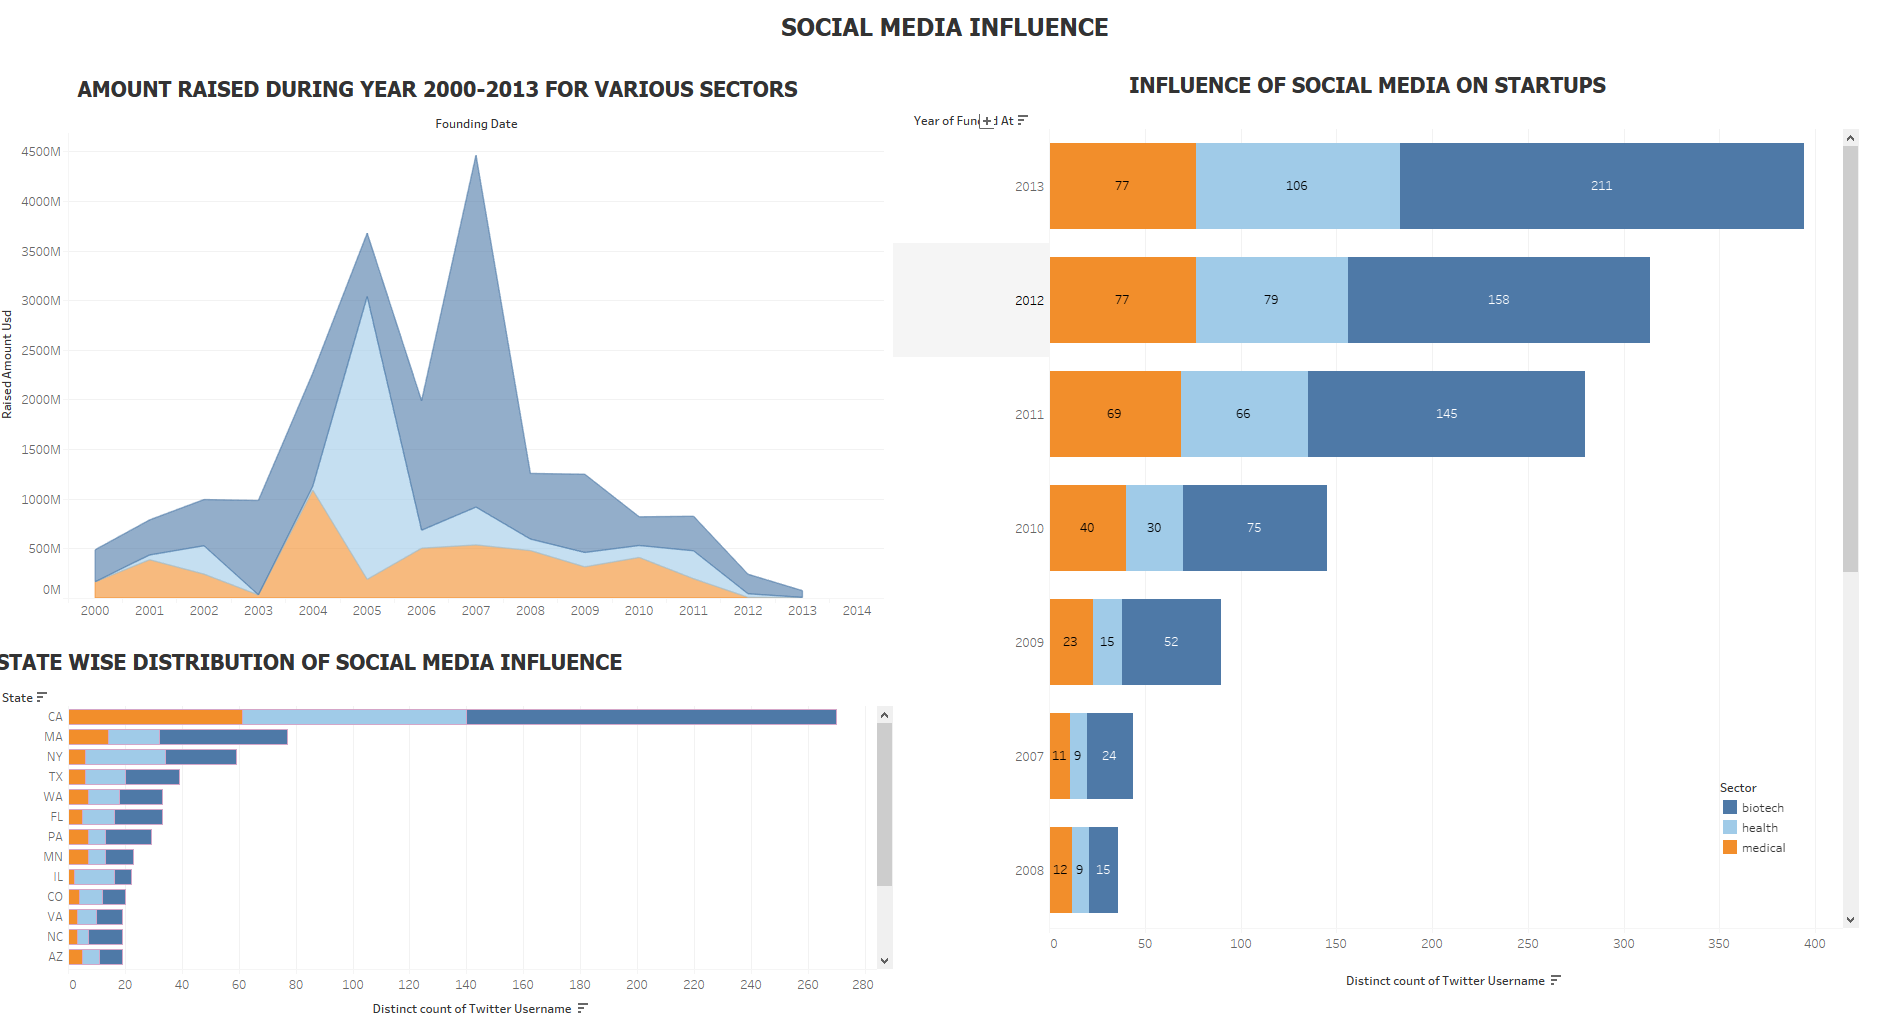

Layout of this report page (visuals, bound fields, positions):
{"tool":"tableau","page":{"name":"Dashboard 4","canvas":[1000,1000],"units":"permille","ordinal":3},"visuals":[{"type":"worksheet","box":[0,0,1000,1000]},{"type":"worksheet","param":"vert","box":[4.7,8.8,990.6,982.5]},{"type":"worksheet","box":[4.7,8.8,990.6,40.5]},{"type":"worksheet","box":[4.7,49.2,990.6,942]},{"type":"worksheet","title":"Sheet 11","mark":"Bar","rows":["funded_at"],"cols":["twitter_username"],"box":[472.8,65.7,503.2,924.5]},{"type":"worksheet","title":"Sheet 10","mark":"Area","rows":["raised_amount_usd"],"cols":["Founding_Date"],"box":[2.9,70,465.2,528.5]},{"type":"worksheet","title":"Sheet 12","mark":"Automatic","rows":["state"],"cols":["twitter_username"],"box":[3.5,623.6,469.3,366.5]},{"type":"worksheet","title":"Sheet 11","mark":"Bar","rows":["funded_at"],"cols":["twitter_username"],"param":"[federated.0fdtdg700kj9tb10wc7ks0fwpb5f].[none:Sector:nk]","box":[903.5,752.7,55.6,97.4]}]}

Visuals, with their boxes on the dashboard's canvas, which has no fixed pixel size, in thousandths of its width and height (x1, y1, x2, y2). These are canvas units, not pixel positions in the 1900x1034 screenshot, which may show the page scaled, cropped or inside an application window:
worksheet: rect(0, 0, 1000, 1000)
worksheet: rect(5, 9, 995, 991)
worksheet: rect(5, 9, 995, 49)
worksheet: rect(5, 49, 995, 991)
"Sheet 11" worksheet (Bar marks): rect(473, 66, 976, 990)
"Sheet 10" worksheet (Area marks): rect(3, 70, 468, 598)
"Sheet 12" worksheet: rect(4, 624, 473, 990)
"Sheet 11" worksheet (Bar marks): rect(904, 753, 959, 850)
